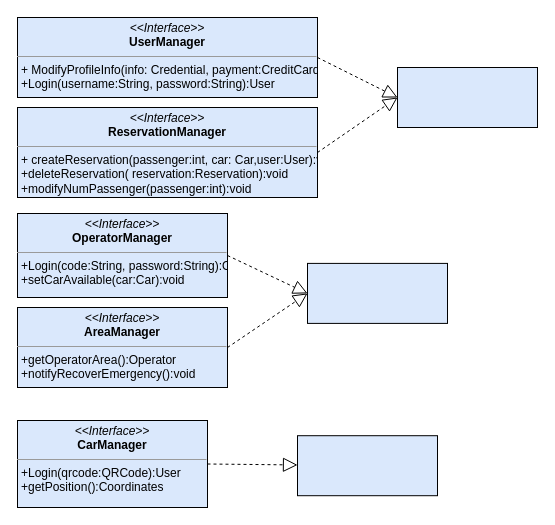
Some shapes in this 555 by 525 pixel diagram are drawn without their labels. Here are the shapes that lost their labels. From the top down, the centre of each, then its label:
At pixel 467 97: "<<Interface>> UserService".
At pixel 377 292: "<<Interface>> OperatorService".
At pixel 367 465: "<<Interface>> OnBoardService".
